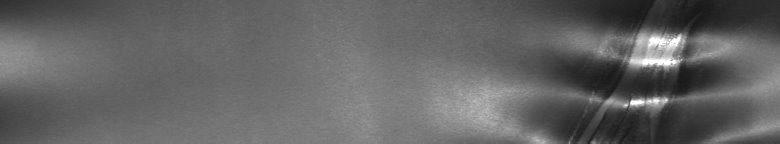ke: (496, 4, 776, 136)
